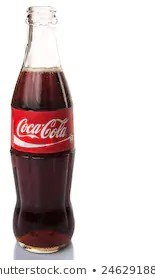coke-glass-bottle: (9, 7, 85, 254)
